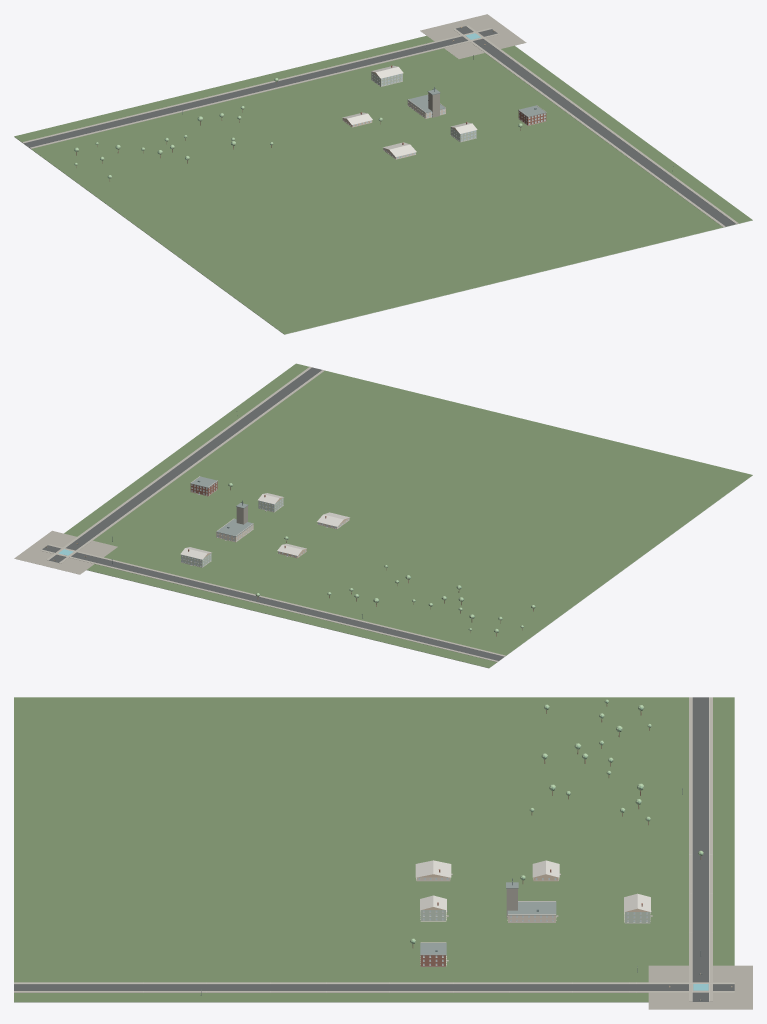
Rendered from chunk_5_2_high.glb.
3 renders of one model, top to bottom at view 1: azimuth 30°, elevation 25°; view 2: azimuth 150°, elevation 25°; view 3: azimuth 270°, elevation 25°, orthographic. The views are drawn at different scales.
Visible parts, largest first — view 1: city_forest_floor, city_world_asphalt, city_world_sidewalk, city_village_stone, city_curb, city_roof_tile, city_grass; view 2: city_forest_floor, city_world_asphalt, city_world_sidewalk, city_village_stone, city_curb, city_roof_tile, city_grass, city_roof_slate; view 3: city_forest_floor, city_world_asphalt, city_world_sidewalk, city_village_stone, city_curb, city_roof_tile, city_roof_slate, city_grass, city_trim, city_wall_sage.
Boxes of the visible parts, x1=… form: city_forest_floor: x1=14, y1=36, x2=752, y2=334; city_world_asphalt: x1=24, y1=26, x2=735, y2=226; city_world_sidewalk: x1=22, y1=25, x2=738, y2=227; city_village_stone: x1=420, y1=14, x2=526, y2=117; city_curb: x1=23, y1=26, x2=736, y2=225; city_roof_tile: x1=342, y1=65, x2=477, y2=156; city_grass: x1=14, y1=136, x2=752, y2=334; city_forest_floor: x1=64, y1=363, x2=752, y2=667; city_world_asphalt: x1=42, y1=367, x2=504, y2=660; city_world_sidewalk: x1=40, y1=366, x2=505, y2=661; city_village_stone: x1=14, y1=506, x2=247, y2=574; city_curb: x1=42, y1=367, x2=504, y2=660; city_roof_tile: x1=180, y1=493, x2=349, y2=559; city_grass: x1=86, y1=475, x2=752, y2=668; city_roof_slate: x1=190, y1=476, x2=253, y2=536; city_forest_floor: x1=14, y1=697, x2=734, y2=1001; city_world_asphalt: x1=14, y1=697, x2=734, y2=1001; city_world_sidewalk: x1=14, y1=697, x2=734, y2=1001; city_village_stone: x1=506, y1=888, x2=752, y2=1009; city_curb: x1=14, y1=697, x2=734, y2=1001; city_roof_tile: x1=415, y1=860, x2=650, y2=911; city_roof_slate: x1=420, y1=882, x2=556, y2=955; city_grass: x1=14, y1=1002, x2=648, y2=1002; city_trim: x1=416, y1=878, x2=650, y2=966; city_wall_sage: x1=420, y1=910, x2=650, y2=923.
Bounding box in the file's own units: 525 × 30.18 × 525.
